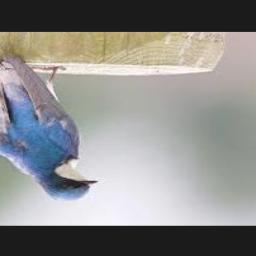Swallow: (0, 54, 96, 201)
